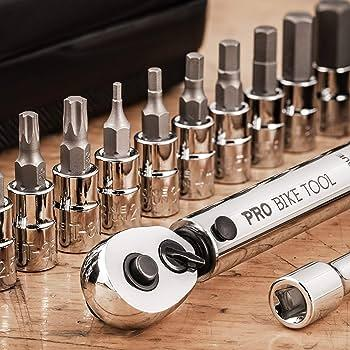Tool: (78, 224, 205, 333)
